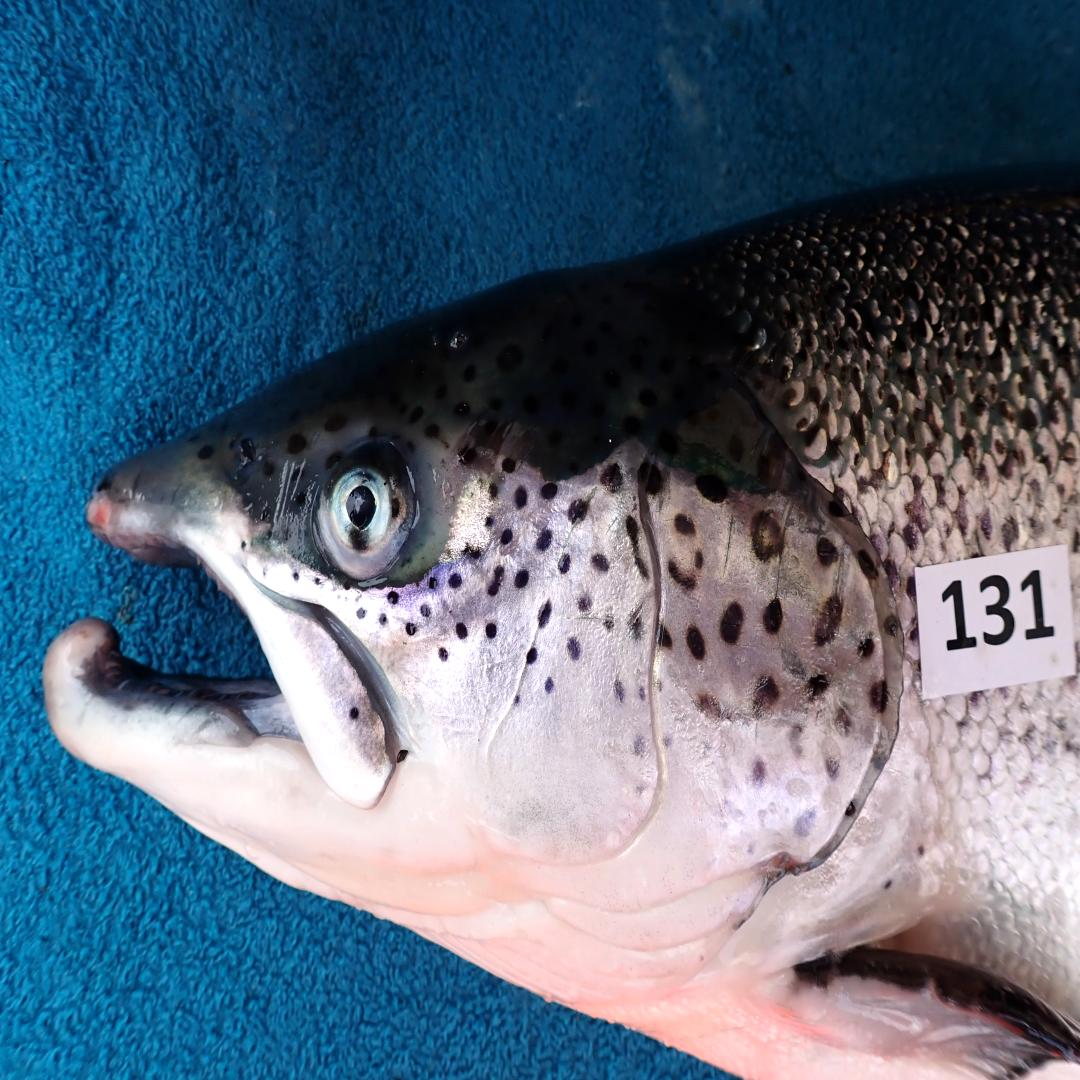roi: (375, 442, 902, 1012)
